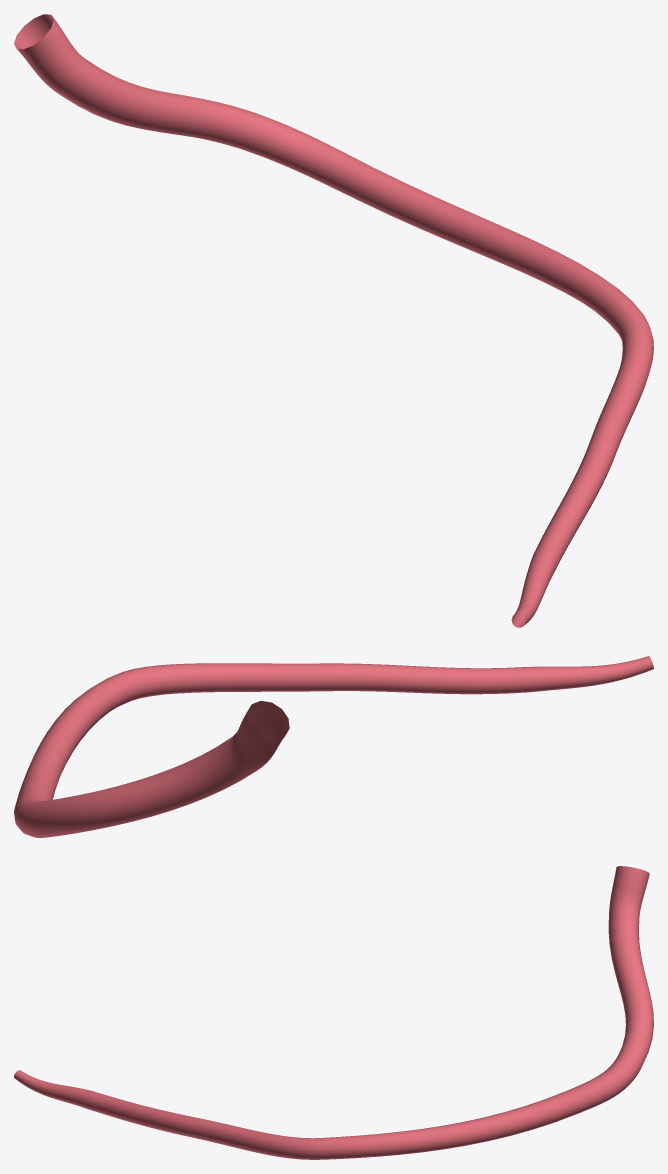
3 renders of one model, top to bottom at view 1: azimuth 30°, elevation 25°; view 2: azimuth 150°, elevation 25°; view 3: azimuth 270°, elevation 25°, orthographic. The views are drawn at different scales.
Visible parts, largest first — view 1: ZA_95273e17120388e9; view 2: ZA_95273e17120388e9; view 3: ZA_95273e17120388e9.
Part boxes in pixels (x1,y1,x2,y2): ZA_95273e17120388e9: (14,14,653,627); ZA_95273e17120388e9: (14,656,653,837); ZA_95273e17120388e9: (14,866,653,1159).
Bounding box in the file's own units: 0.0383 × 0.0271 × 0.0752.
